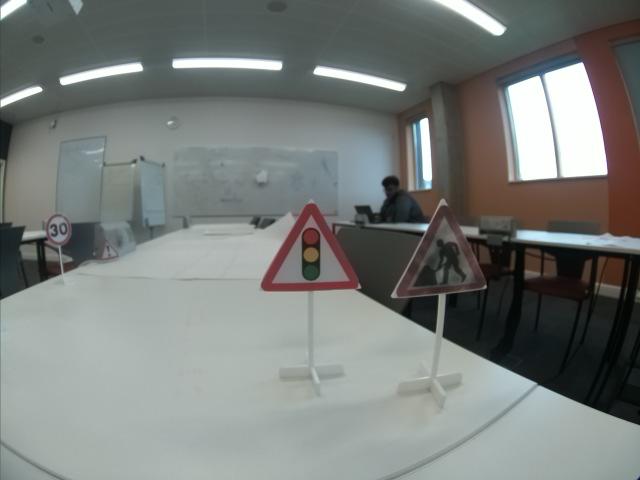30mph: (46, 213, 73, 246)
Roadworks: (395, 202, 487, 298)
Traffic lights: (260, 202, 357, 292)
Warning: (99, 239, 120, 260)
